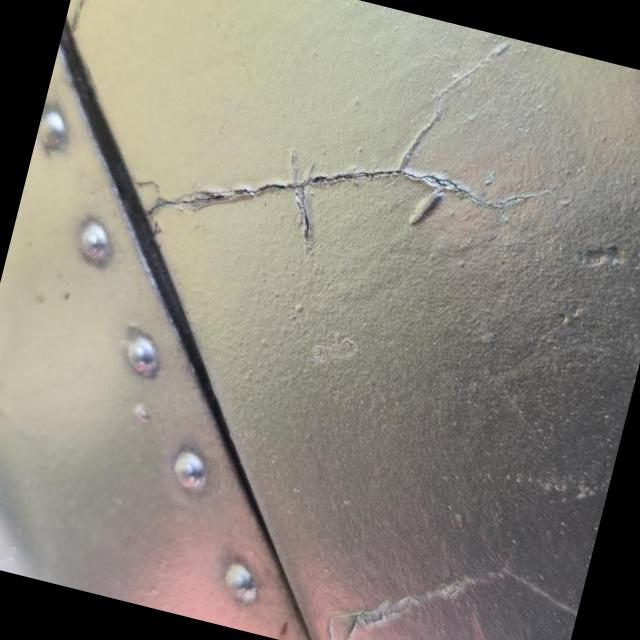Crack: (148, 85, 551, 249)
